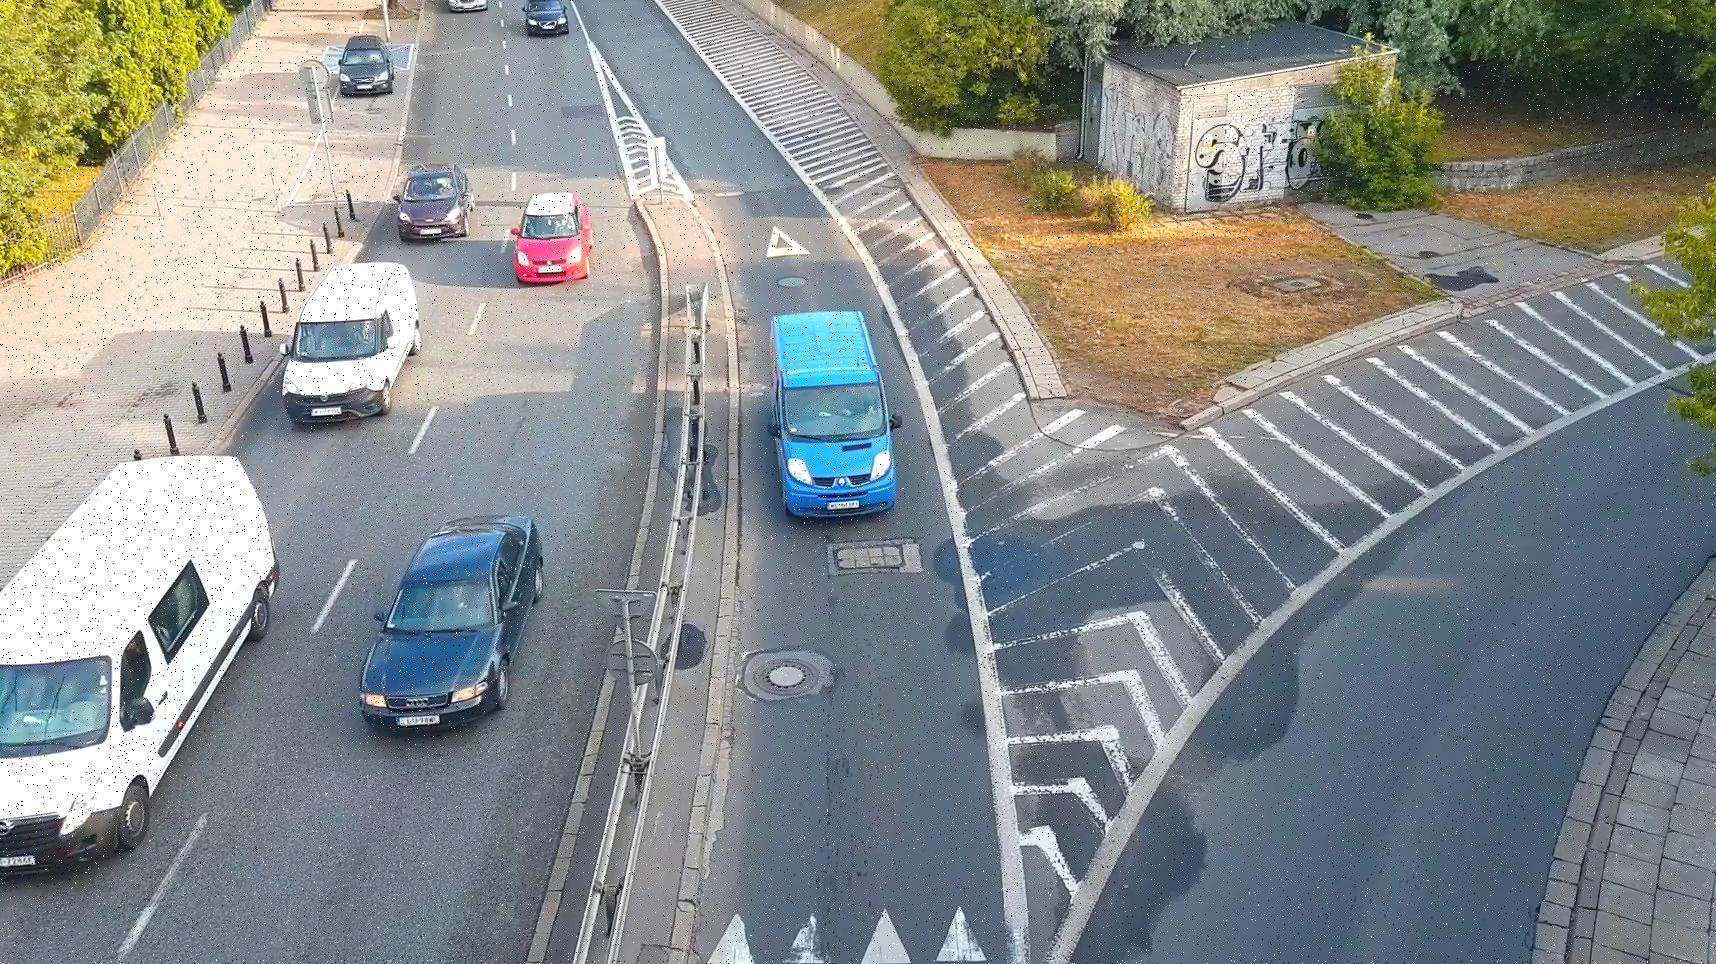car: (0, 438, 301, 886), (348, 506, 556, 739), (763, 299, 922, 533), (283, 257, 429, 434), (520, 185, 601, 286), (391, 159, 481, 244), (335, 20, 400, 105), (519, 0, 569, 42), (433, 0, 490, 18)
